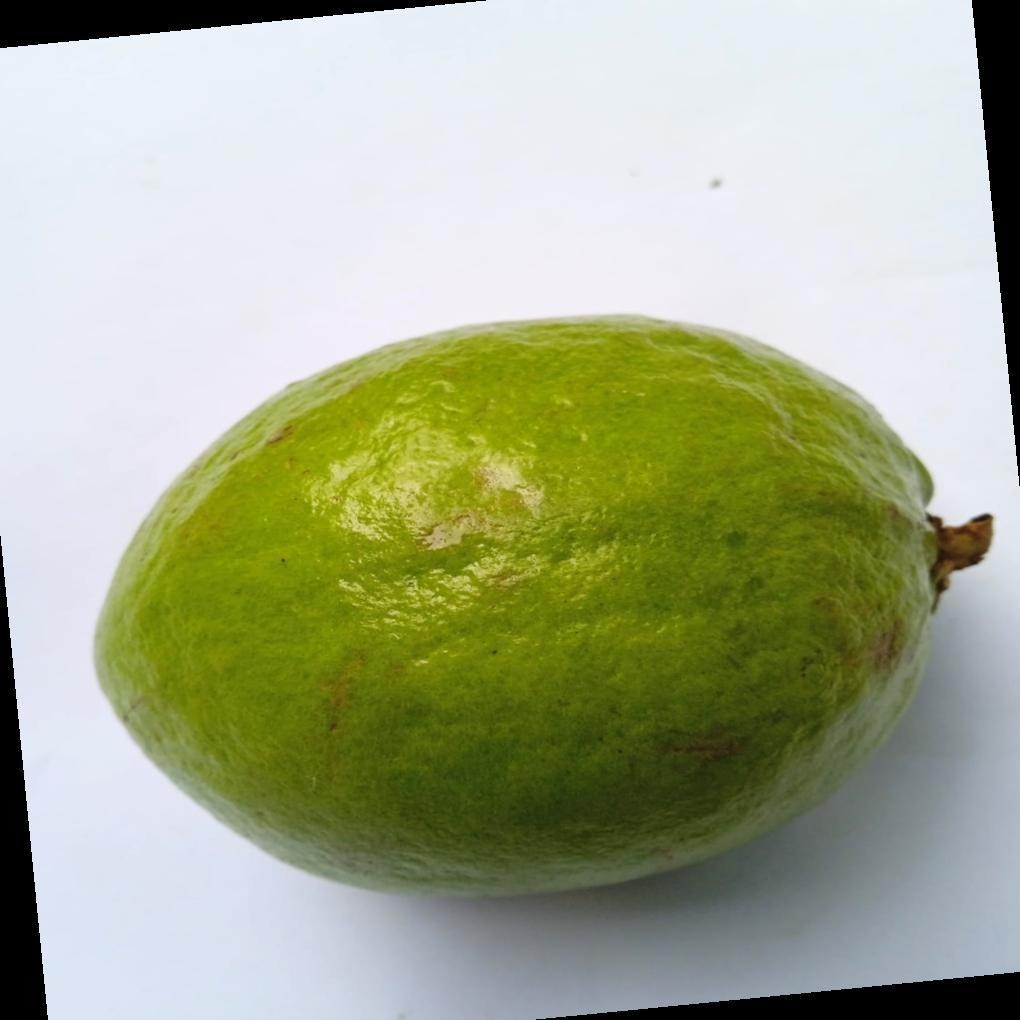FreshGuava: (90, 314, 989, 905)
